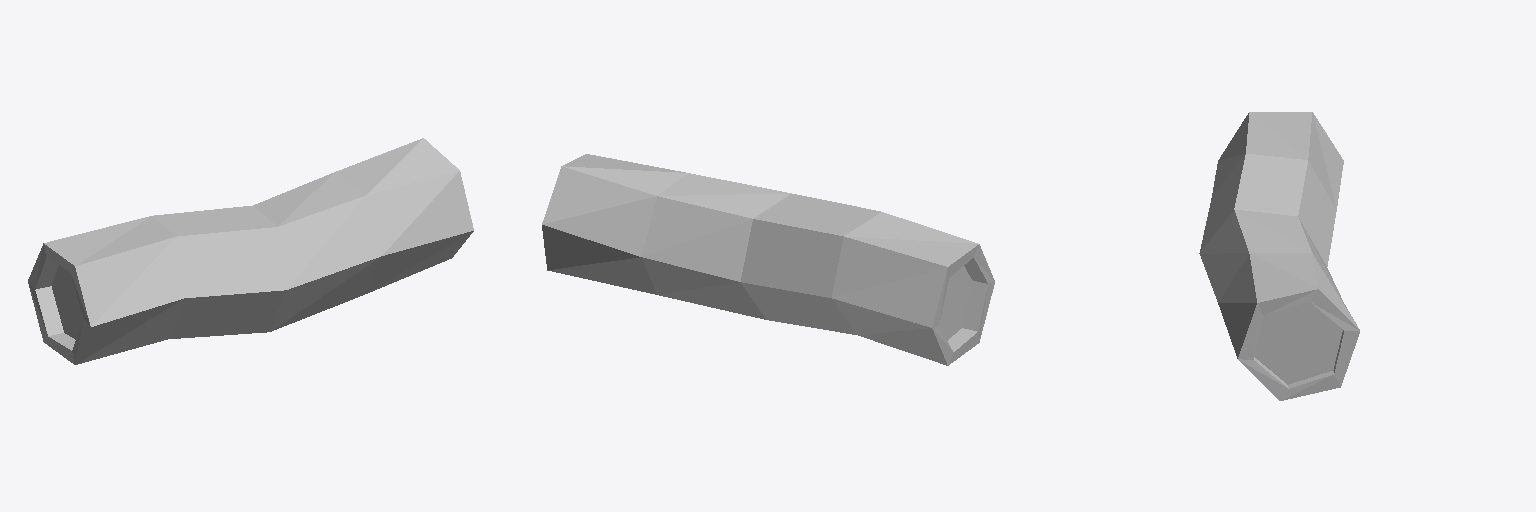
The model's file is Log3.obj.
3 renders of one model, left to right at view 1: azimuth 30°, elevation 25°; view 2: azimuth 150°, elevation 25°; view 3: azimuth 270°, elevation 25°, orthographic.
Visible parts, largest first — view 1: Log_2_Cylinder; view 2: Log_2_Cylinder; view 3: Log_2_Cylinder.
Boxes of the visible parts, box(x1,y1,x2,y2) form: Log_2_Cylinder: box(28, 138, 473, 364); Log_2_Cylinder: box(542, 154, 994, 365); Log_2_Cylinder: box(1199, 112, 1359, 400).
Bounding box in the file's own units: 7.22 × 2.04 × 2.56.